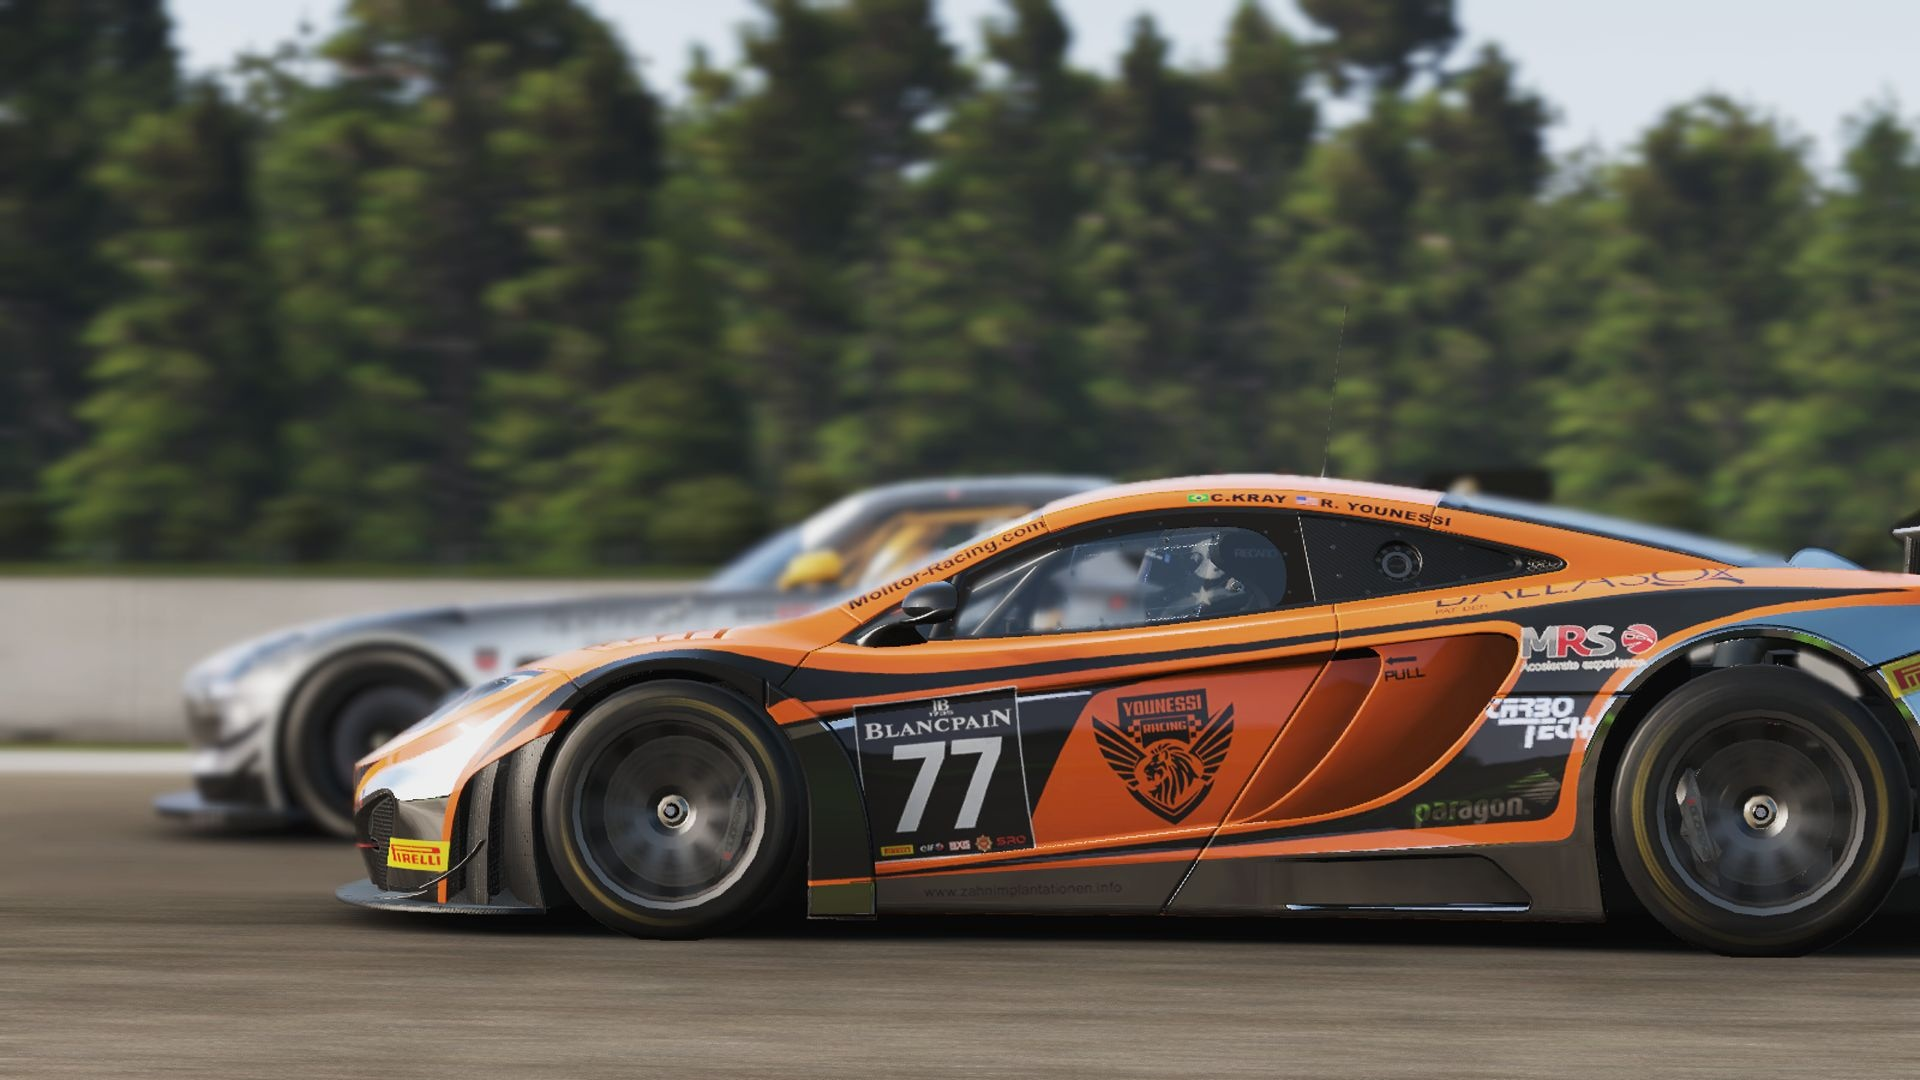racing car: (338, 418, 1920, 1000)
